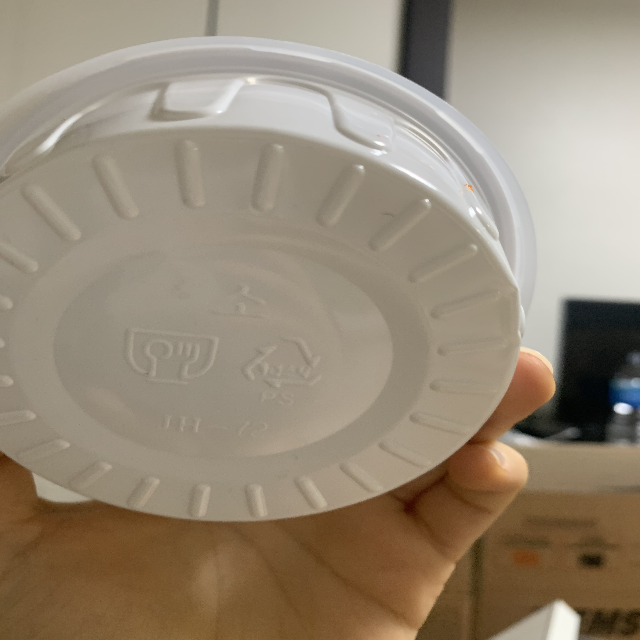ps: (242, 328, 322, 407)
